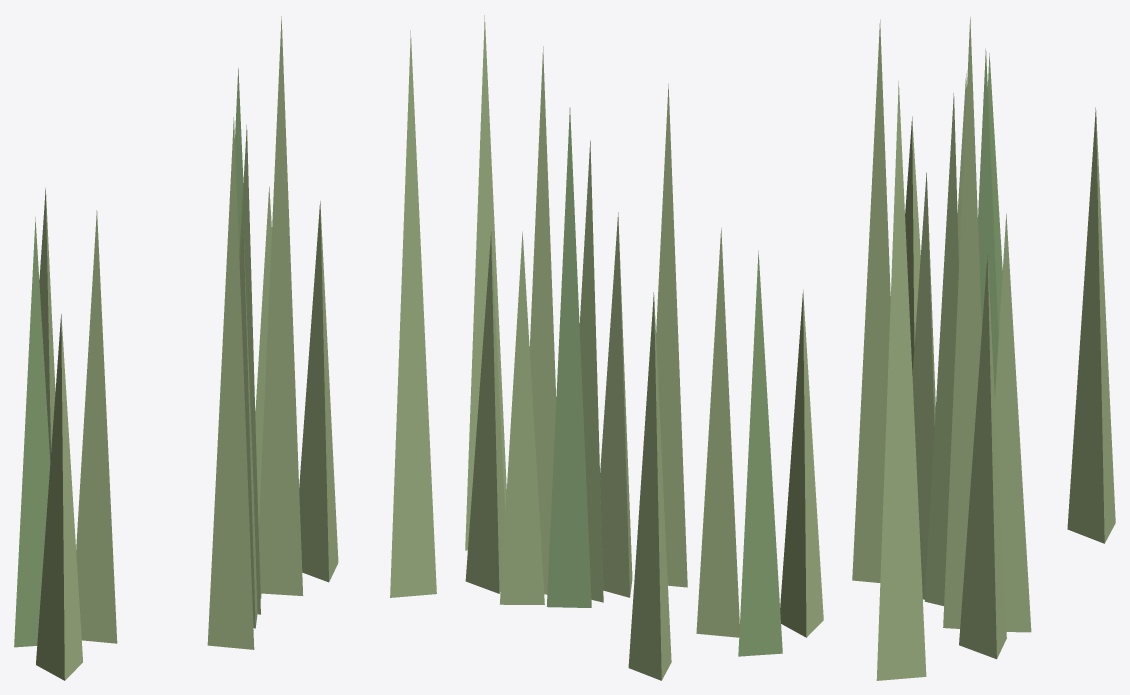
The model's file is xy_beach_dunegrass.glb.
3 views of the same model, side by side, from view 1: azimuth 30°, elevation 25°; view 2: azimuth 150°, elevation 25°; view 3: azimuth 270°, elevation 25° (orthographic). The views are drawn at different scales.
Visible parts, largest first — view 1: DuneGrass; view 2: DuneGrass; view 3: DuneGrass.
Boxes of the visible parts, left/top/right/bottom form: DuneGrass: left=14, top=16, right=436, bottom=680; DuneGrass: left=465, top=15, right=823, bottom=680; DuneGrass: left=852, top=17, right=1115, bottom=680.
Size of the model in its own units: 0.6257 by 0.9206 by 0.3607.
